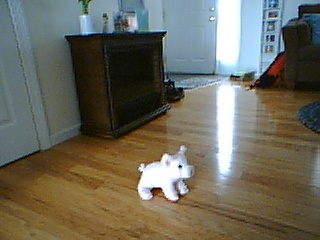piggy: (136, 144, 196, 203)
